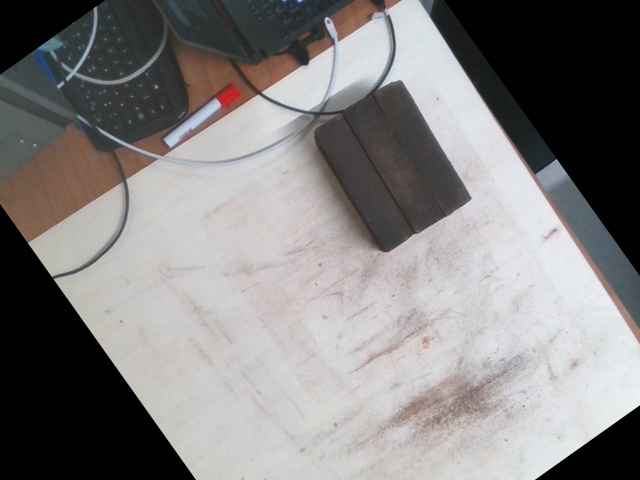brick-side: (373, 81, 470, 213), (345, 99, 442, 231), (315, 117, 412, 249)
